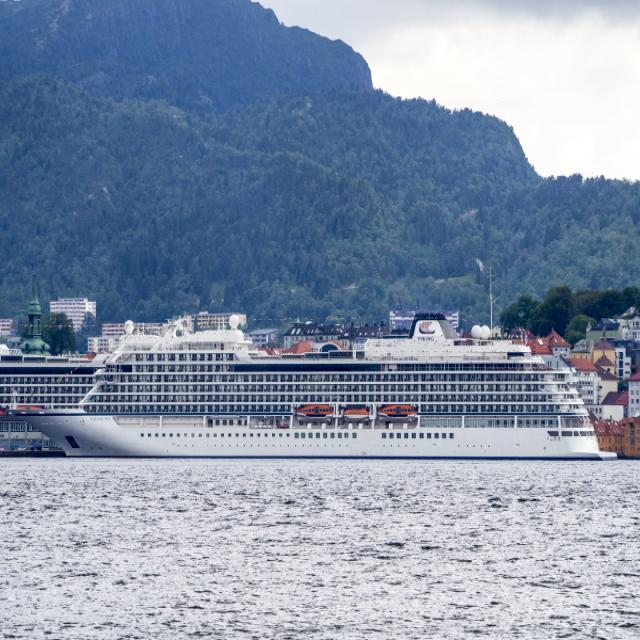cruises: (11, 312, 621, 467)
